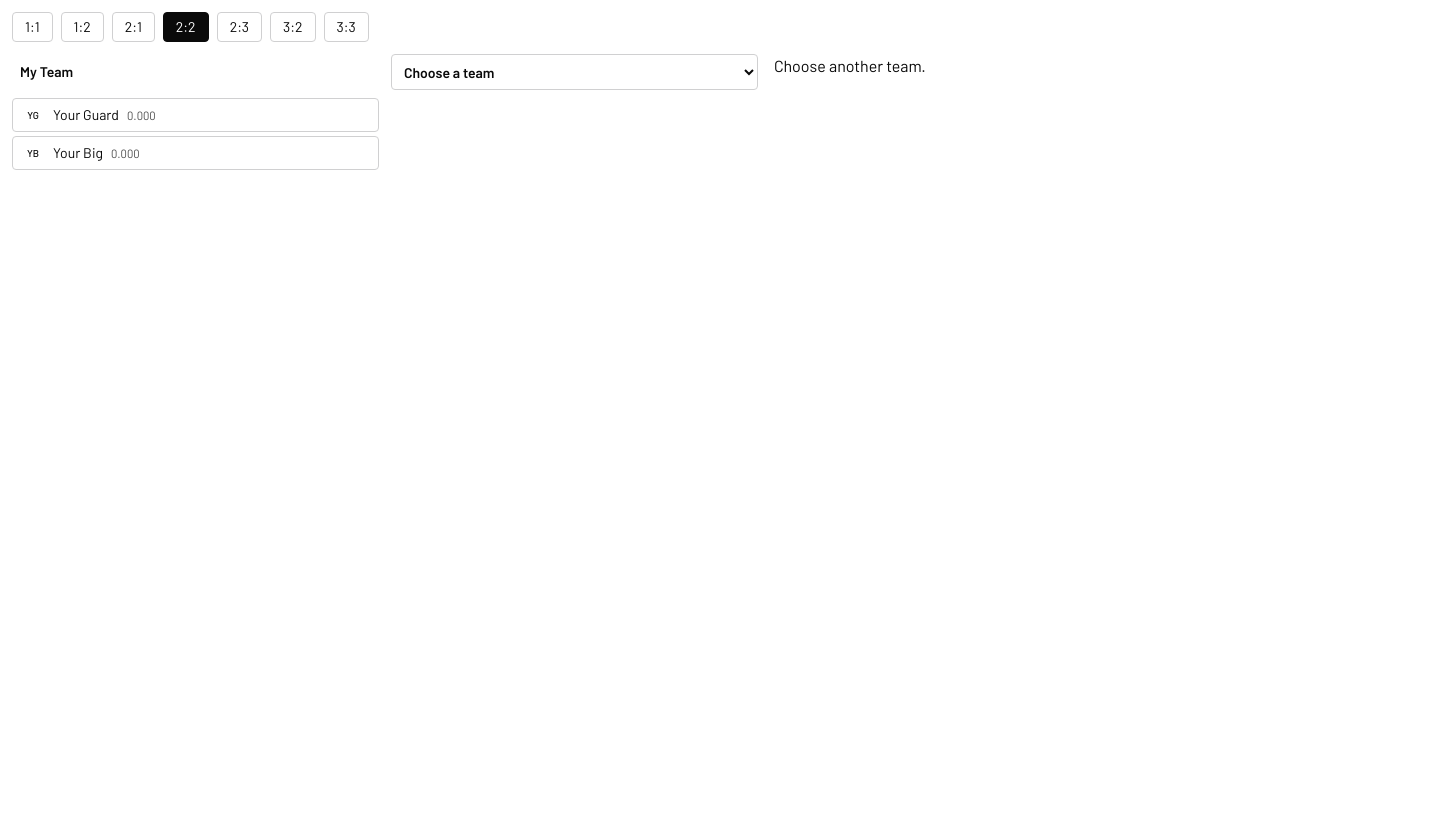
Test case: TradeSimulation › clears the received player when the other team changes
Select "Rivals" in the dropdown named "Team" at (574, 72), box [391,54,758,90]
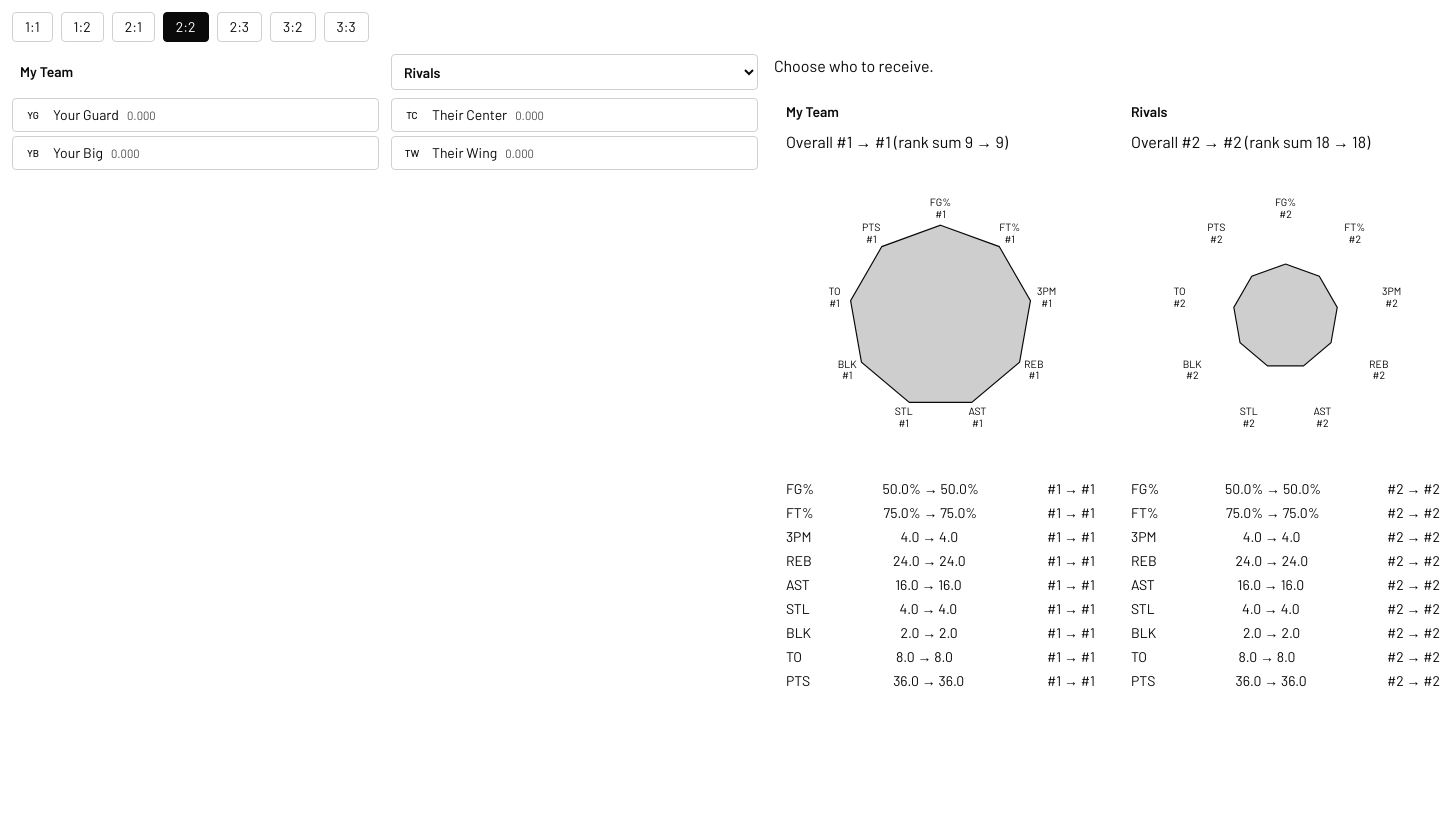
Click the button "TC Their Center 0.000" at (470, 114), box [391,98,758,132]
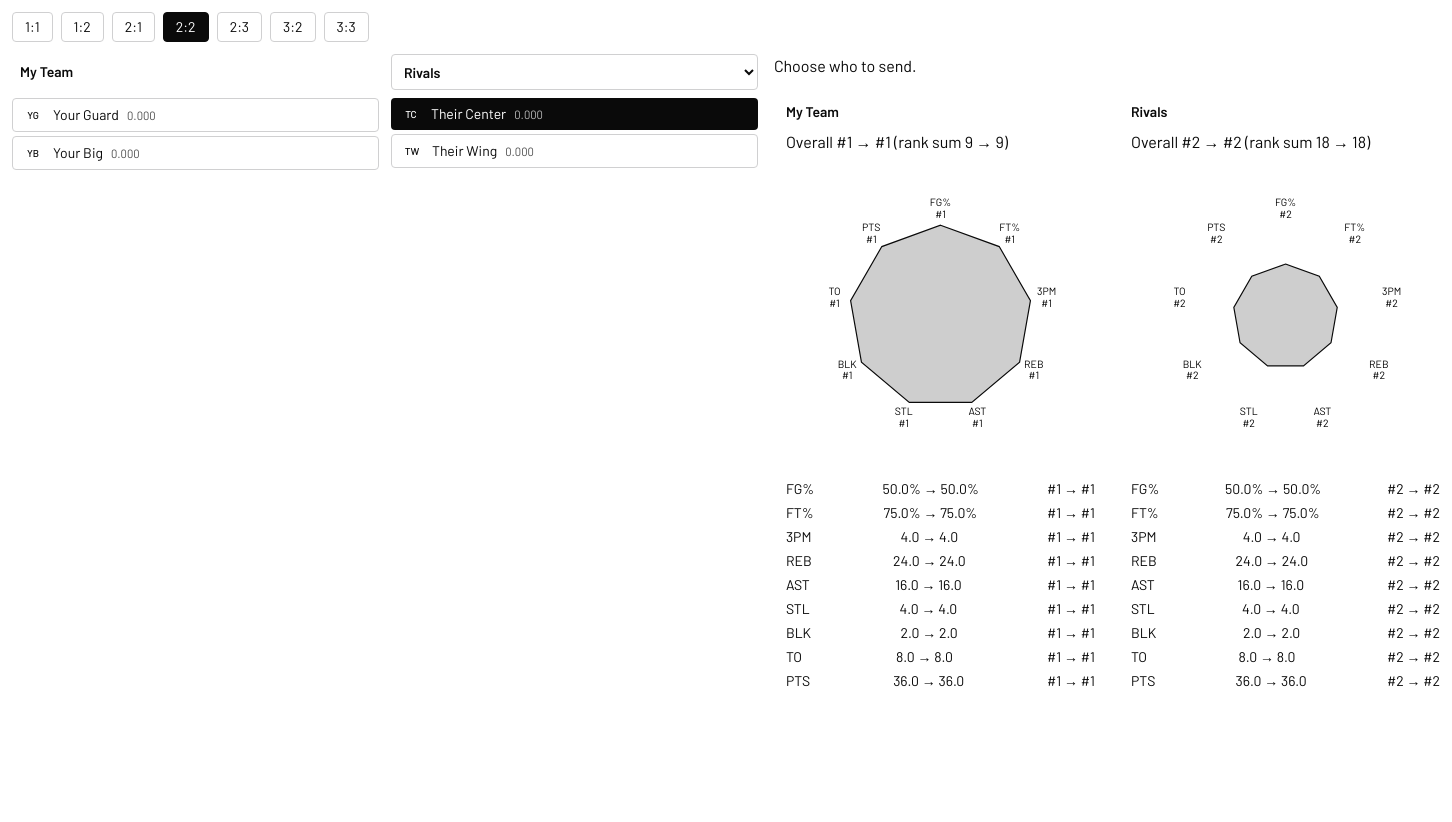
Check: the button "TC Their Center 0.000" is pressed, box [391,98,758,130]
Select "Filler" in the dropdown named "Team" at (574, 72), box [391,54,758,90]
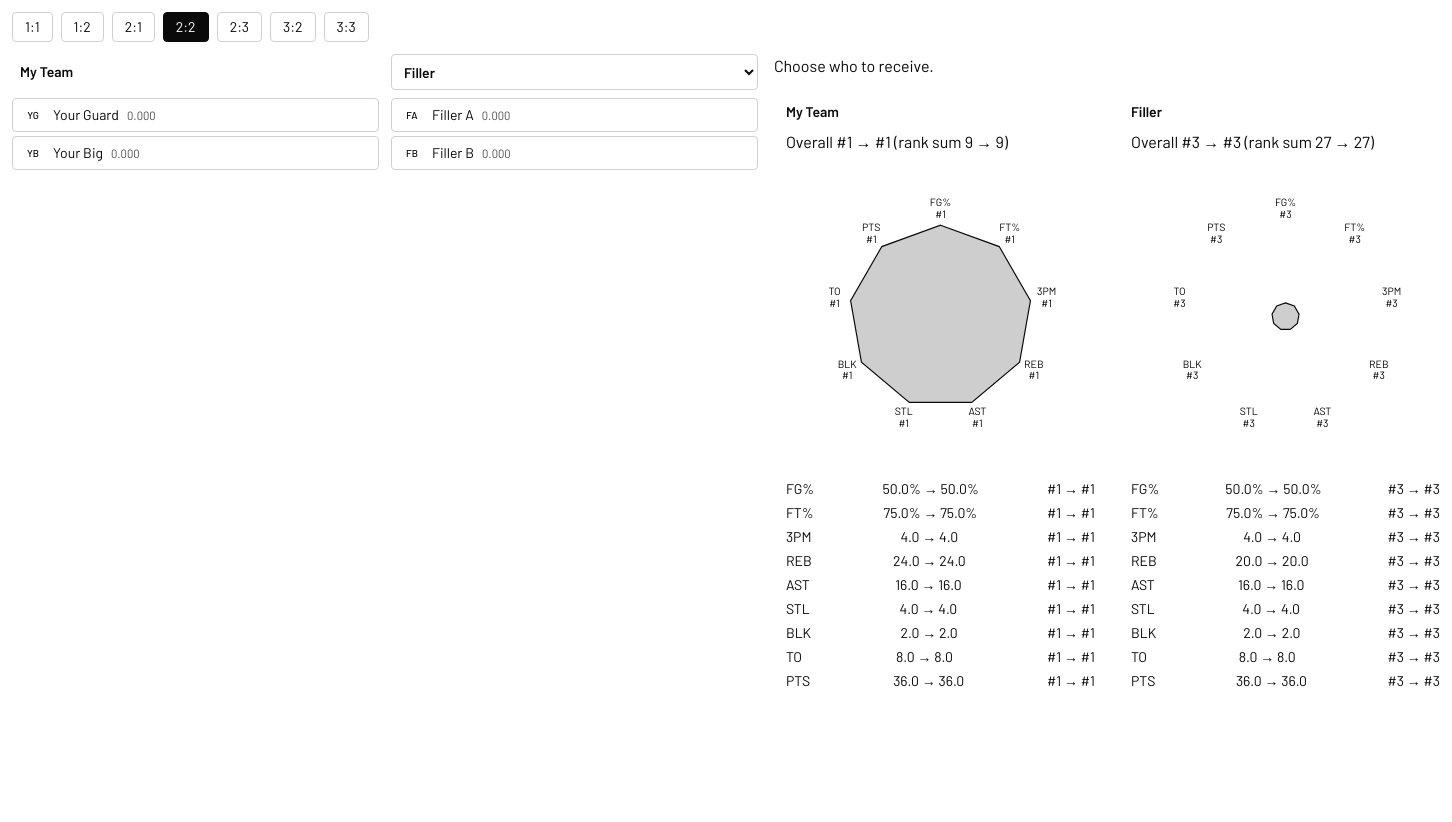
Check: the button "Their Center" is gone
Check: the text "Choose who to receive." is shown, box [774,56,934,75]
